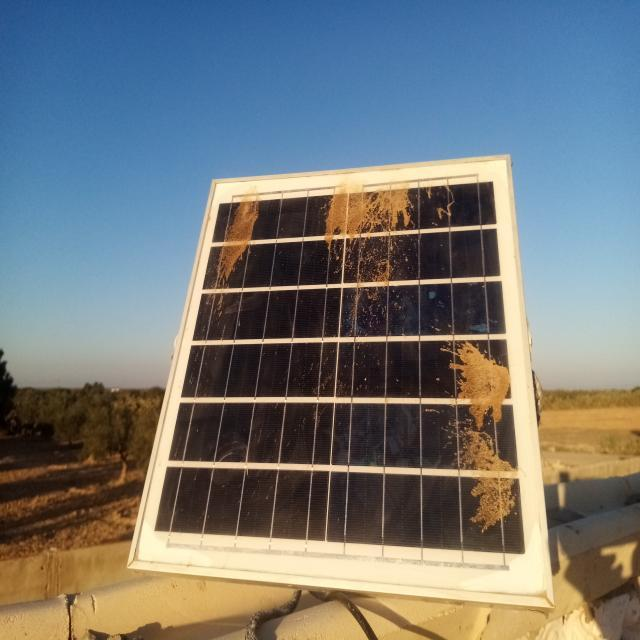faulty: (129, 156, 549, 601)
